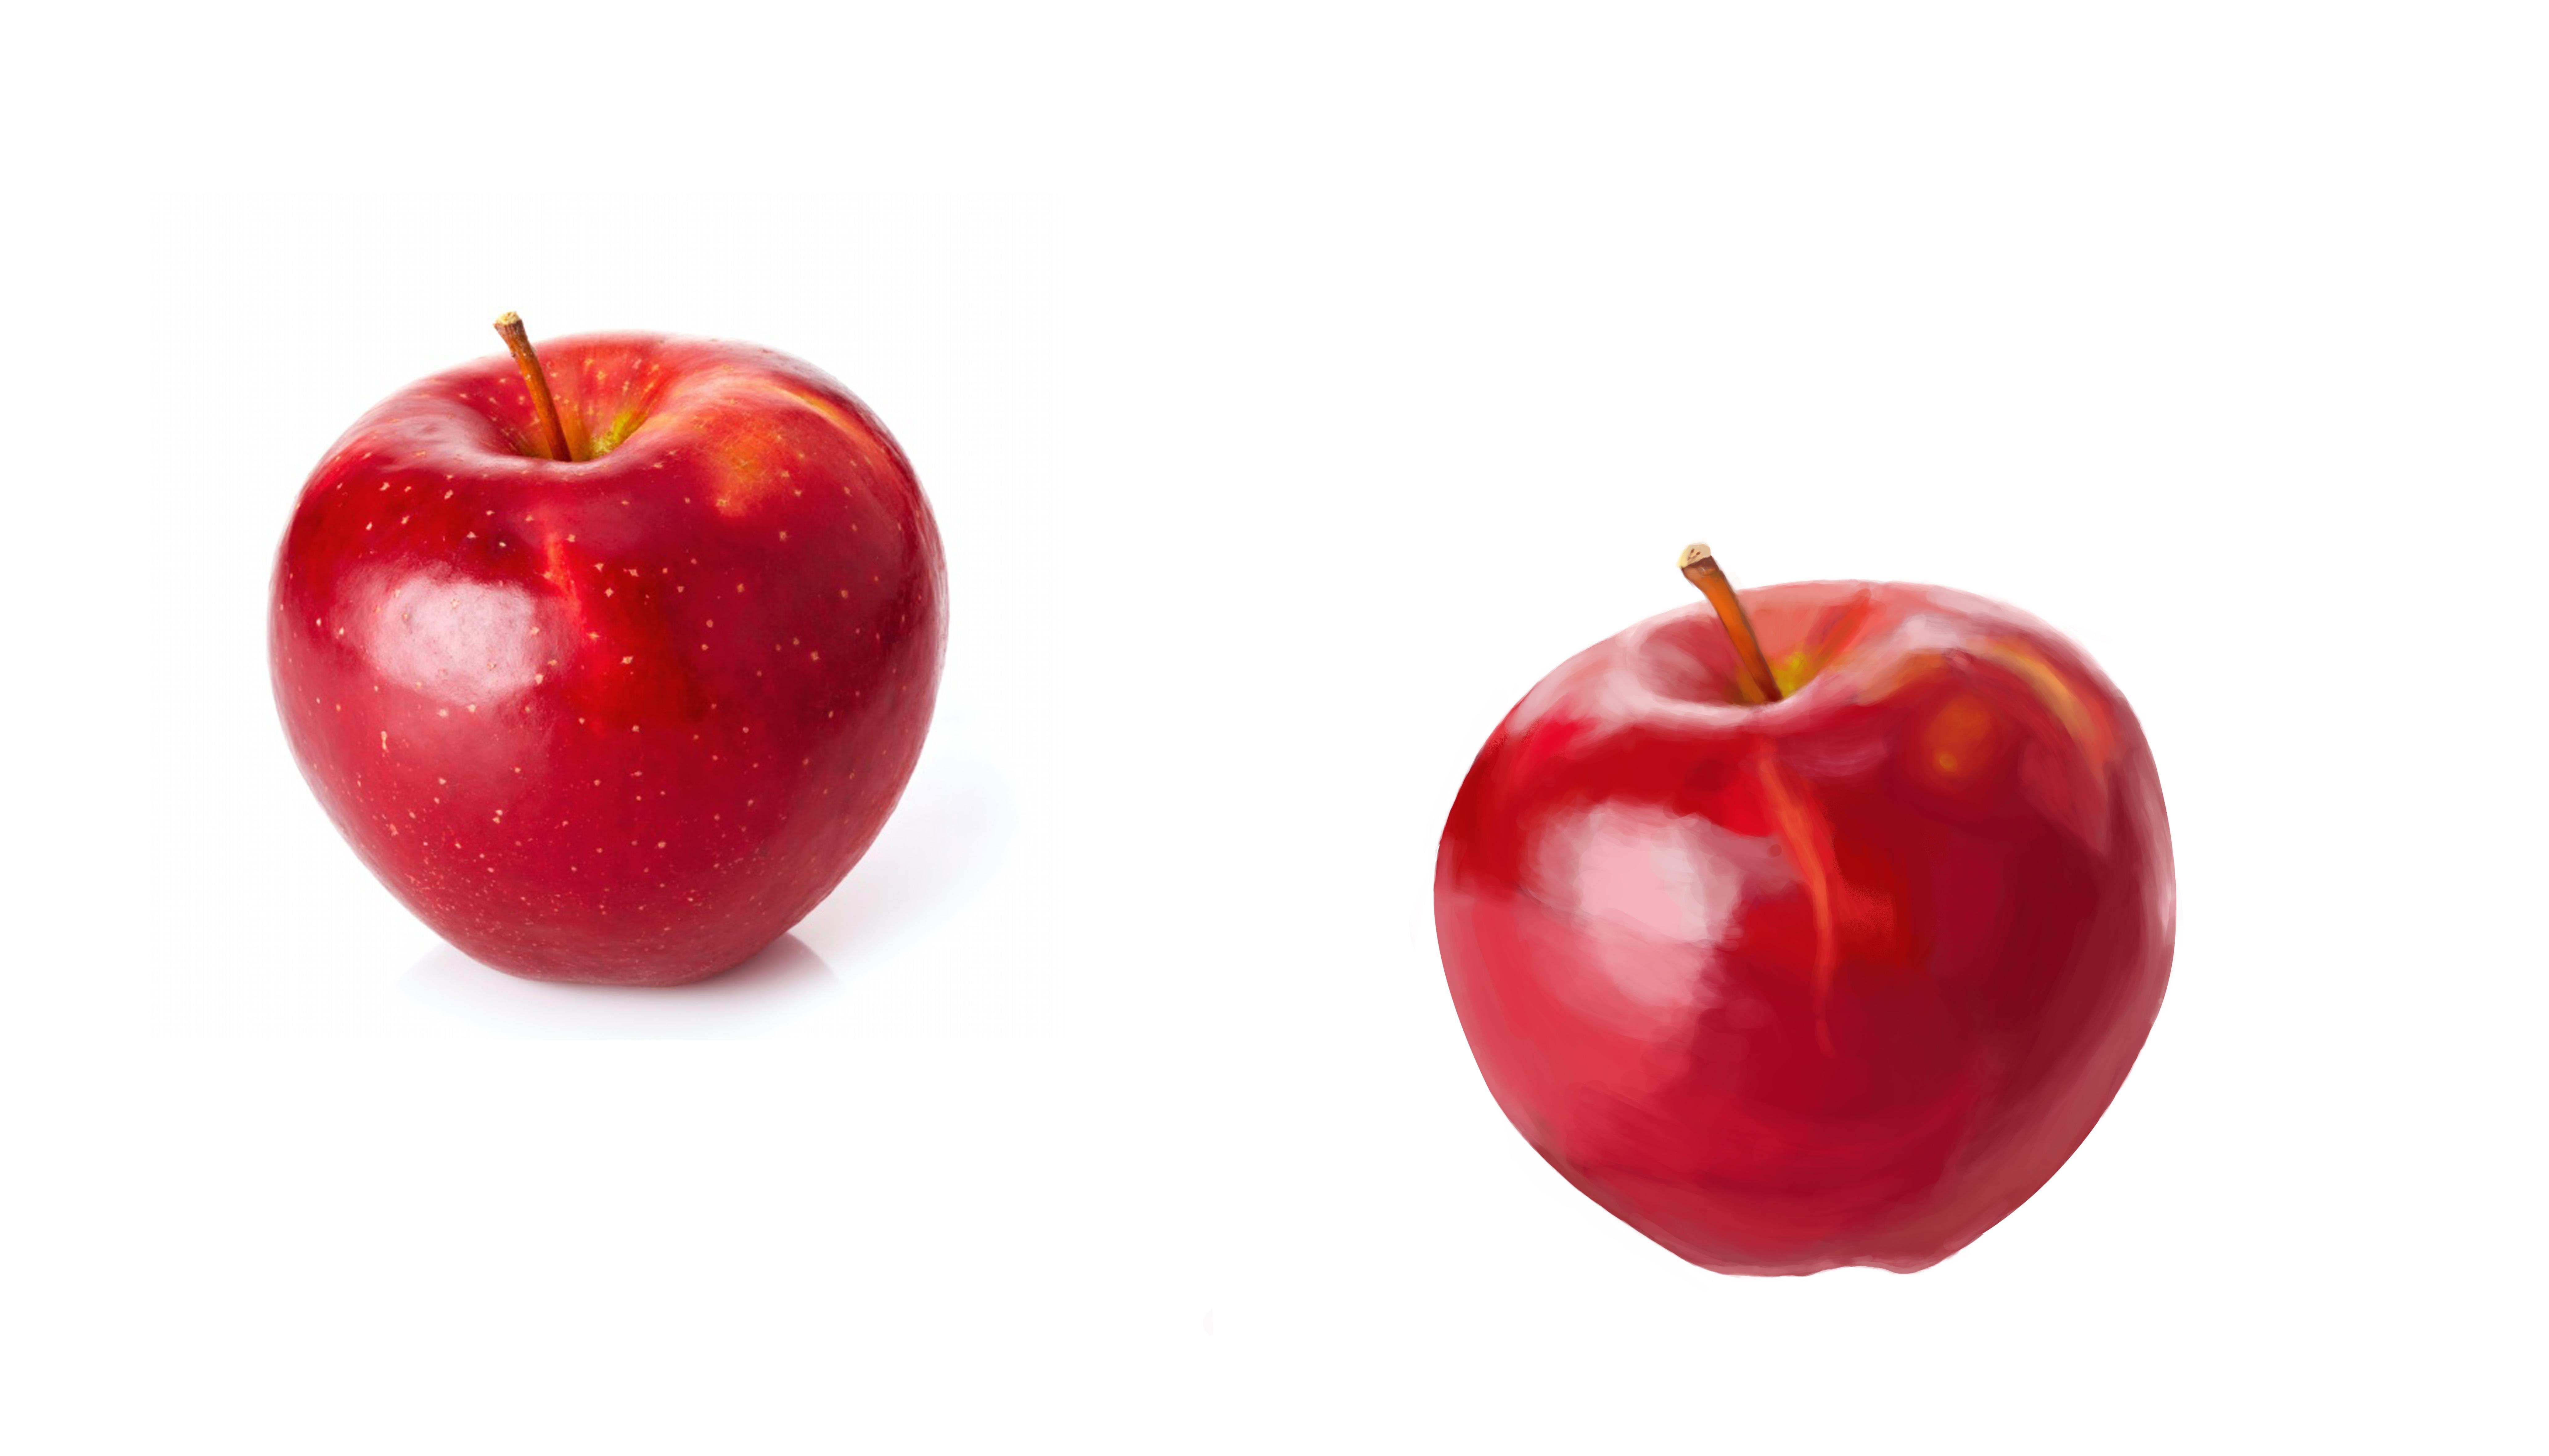apple: (1423, 548, 2176, 1283), (254, 296, 942, 969)
